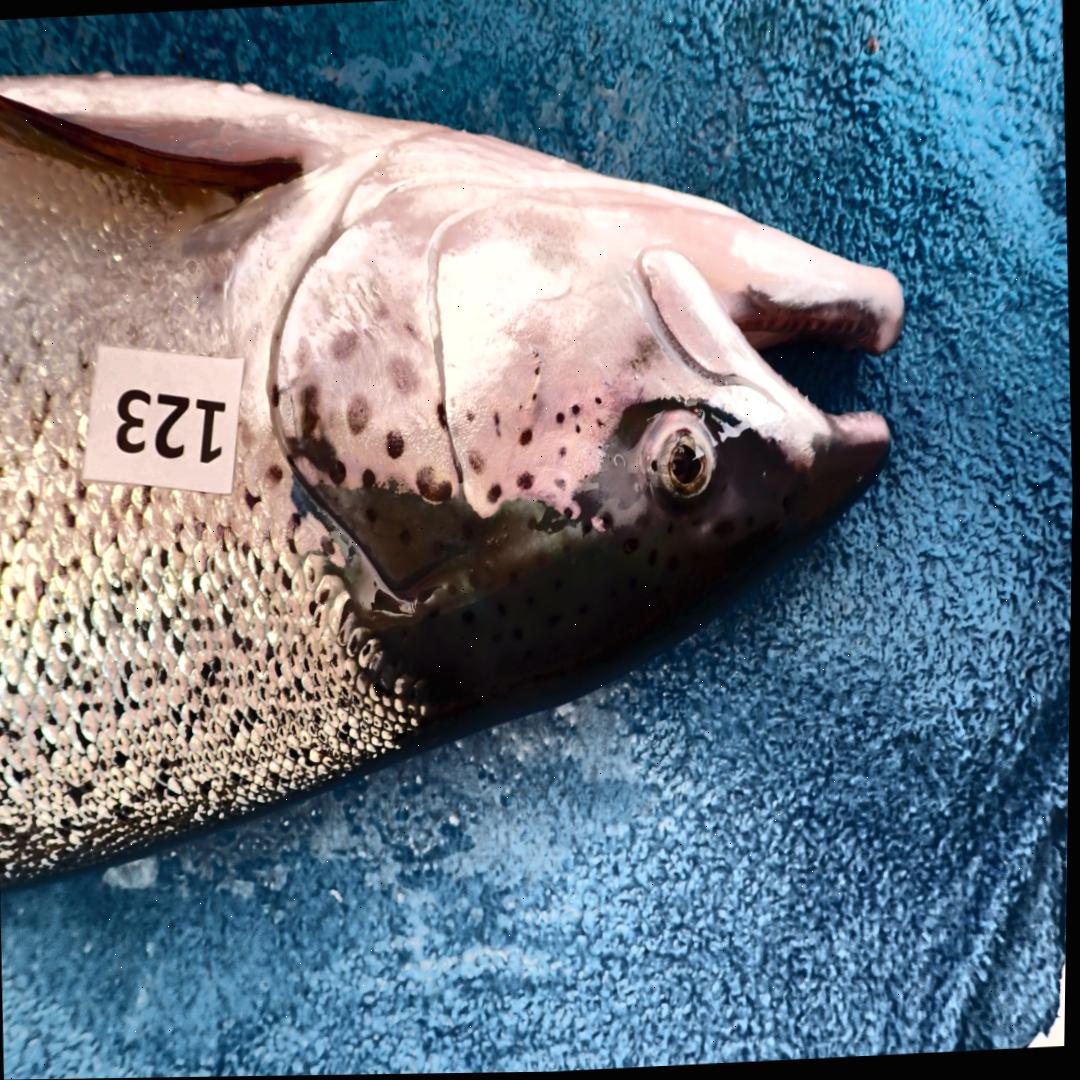spot: (286, 385, 346, 483), (388, 355, 421, 396), (417, 467, 452, 502), (330, 331, 359, 361), (346, 394, 367, 435), (385, 431, 405, 460), (295, 336, 310, 369), (487, 484, 503, 505), (469, 453, 484, 474), (405, 322, 421, 341), (437, 403, 447, 432), (518, 474, 533, 492), (374, 303, 389, 319), (362, 470, 375, 488), (519, 430, 532, 445), (271, 382, 279, 405), (494, 412, 501, 437), (554, 477, 566, 491), (571, 405, 580, 417), (466, 410, 473, 423), (559, 447, 567, 458), (595, 419, 603, 429), (556, 414, 564, 423), (595, 397, 602, 406), (518, 404, 525, 413), (575, 425, 581, 433), (534, 351, 539, 360), (532, 393, 537, 401), (535, 368, 540, 375)
